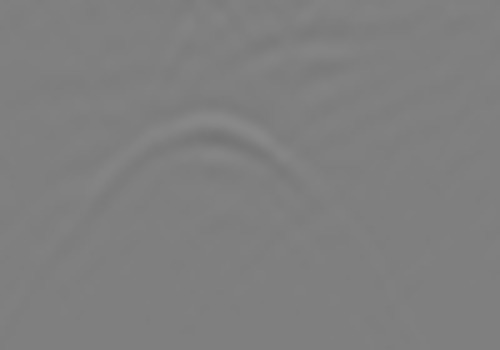hyperbola: (52, 110, 382, 292)
